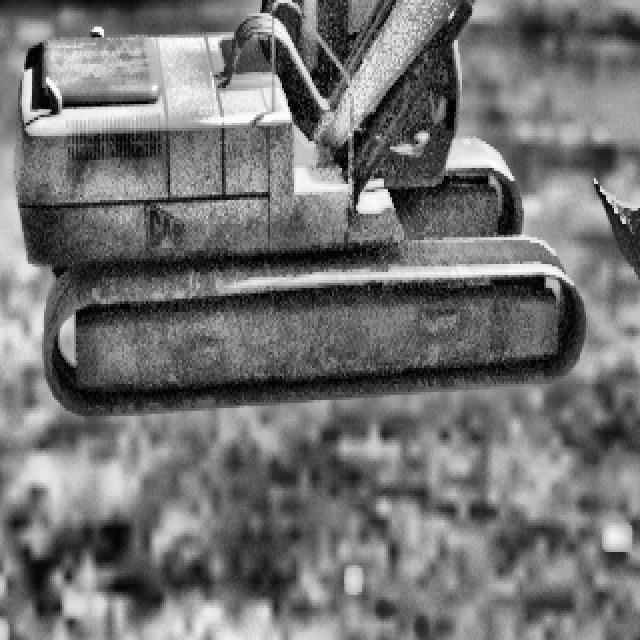excavator: (12, 0, 640, 413)
